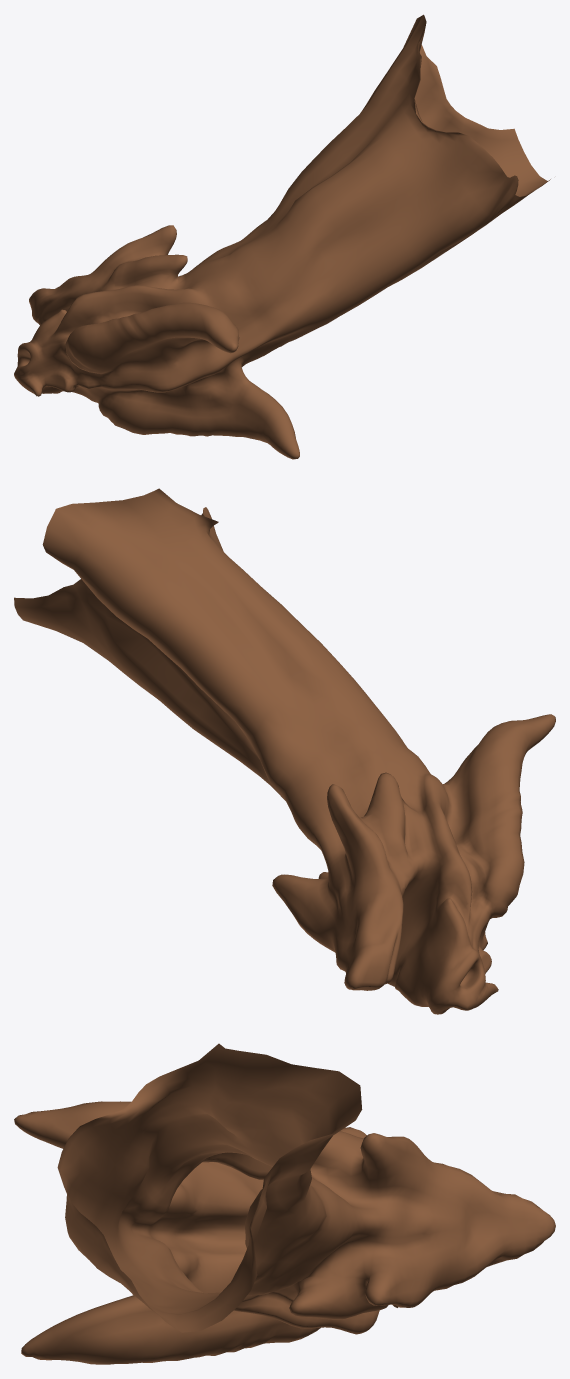
The model's file is Cabeza1.obj.
3 renders of one model, top to bottom at view 1: azimuth 30°, elevation 25°; view 2: azimuth 150°, elevation 25°; view 3: azimuth 270°, elevation 25°, orthographic. The views are drawn at different scales.
Visible parts, largest first — view 1: Cabeza1; view 2: Cabeza1; view 3: Cabeza1.
Part boxes in pixels (left/top/right/bottom): Cabeza1: left=14, top=14, right=550, bottom=459; Cabeza1: left=14, top=488, right=555, bottom=1014; Cabeza1: left=14, top=1043, right=555, bottom=1364.
Bounding box in the file's own units: 3.03 × 2.12 × 2.15.
1 material, 1 textured.
